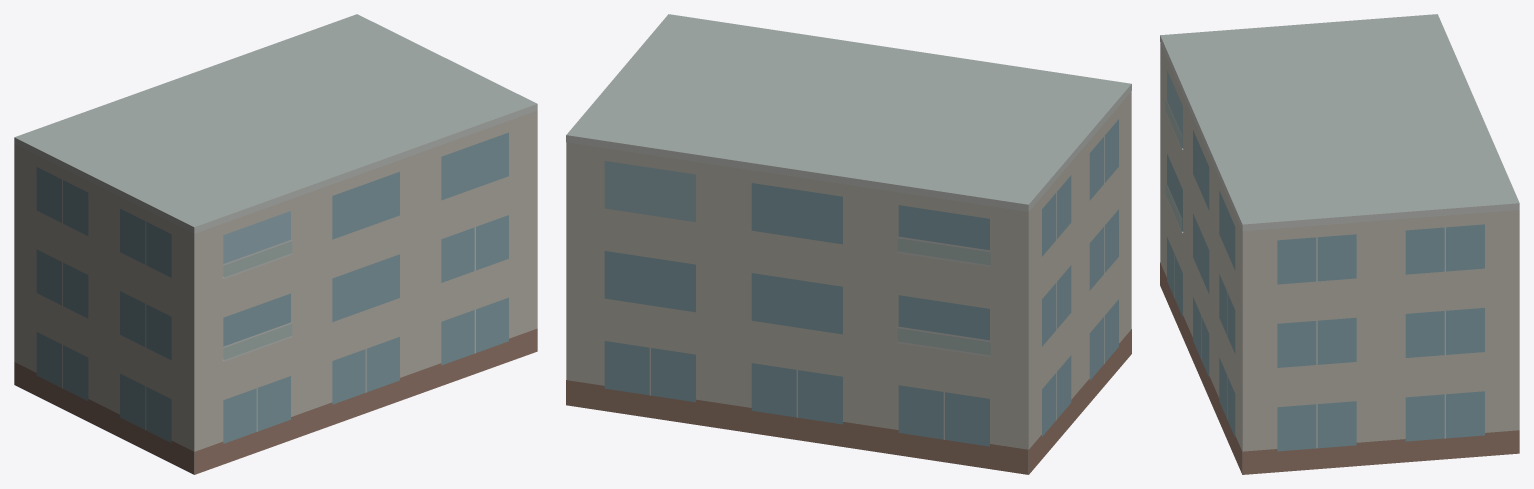
File: survey-upis-32708115.glb
3 views of the same model, side by side, from view 1: azimuth 30°, elevation 25°; view 2: azimuth 150°, elevation 25°; view 3: azimuth 270°, elevation 25° (orthographic). The views are drawn at different scales.
Parts seen in each view (by area): view 1: survey-upis-32708115.tmp; view 2: survey-upis-32708115.tmp; view 3: survey-upis-32708115.tmp.
Part boxes in pixels (x1,y1,x2,y2): survey-upis-32708115.tmp: [14, 14, 537, 474]; survey-upis-32708115.tmp: [566, 14, 1131, 474]; survey-upis-32708115.tmp: [1160, 14, 1519, 474].
Bounding box in the file's own units: 16.51 × 9.15 × 11.92.
